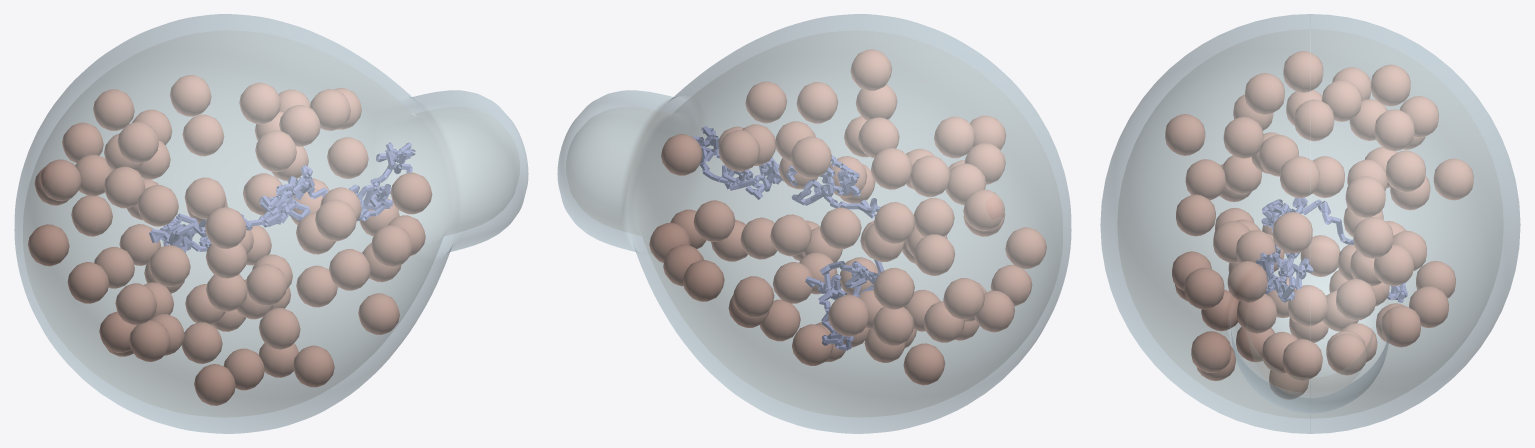
The model's file is mycoplasma-cell-schematic.glb.
3 views of the same model, side by side, from view 1: azimuth 30°, elevation 25°; view 2: azimuth 150°, elevation 25°; view 3: azimuth 270°, elevation 25° (orthographic).
Parts seen in each view (by area): view 1: membrane, cytoplasm, ribosomes, nucleoid; view 2: membrane, cytoplasm, ribosomes, nucleoid; view 3: membrane, ribosomes, cytoplasm, nucleoid.
Part boxes in pixels (left/top/right/bottom): membrane: left=14, top=14, right=528, bottom=433; cytoplasm: left=23, top=31, right=519, bottom=416; ribosomes: left=28, top=75, right=432, bottom=405; nucleoid: left=149, top=142, right=415, bottom=252; membrane: left=557, top=14, right=1071, bottom=433; cytoplasm: left=566, top=31, right=1062, bottom=416; ribosomes: left=649, top=49, right=1046, bottom=385; nucleoid: left=692, top=126, right=883, bottom=350; membrane: left=1100, top=14, right=1520, bottom=433; ribosomes: left=1165, top=51, right=1473, bottom=399; cytoplasm: left=1118, top=30, right=1502, bottom=417; nucleoid: left=1256, top=197, right=1407, bottom=302.
Bounding box in the file's own units: 260 × 200 × 200.
